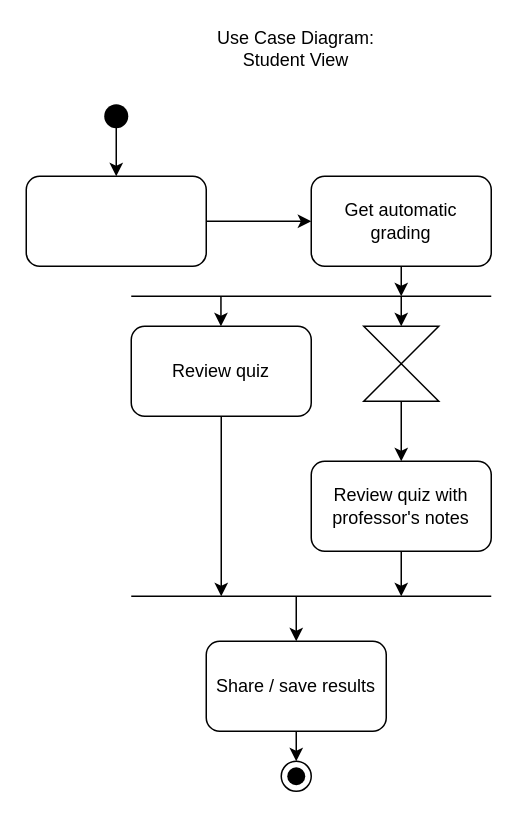
Image size: 519x819. Some labels were removed from this diagram. Each missing label, with the centre of its shape:
Take quiz: (x=115, y=220)
Wait professor's feedback: (x=400, y=363)
